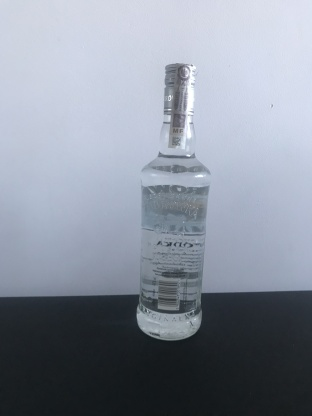nakretka: (162, 59, 198, 119)
